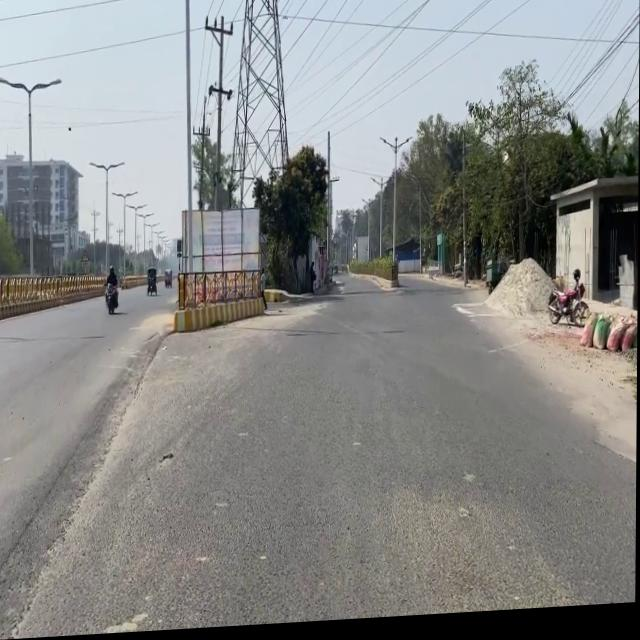Construction-barrier: (0, 325, 172, 638), (0, 285, 106, 321), (263, 288, 311, 307), (346, 271, 384, 295)
Dog: (579, 316, 637, 362)
Fallen-tree: (547, 274, 590, 335), (103, 283, 119, 316)
Garbage: (173, 207, 267, 334)
Garbage-bin: (146, 269, 157, 297), (309, 265, 316, 299), (164, 271, 172, 290)
Pothole: (393, 264, 637, 482)
